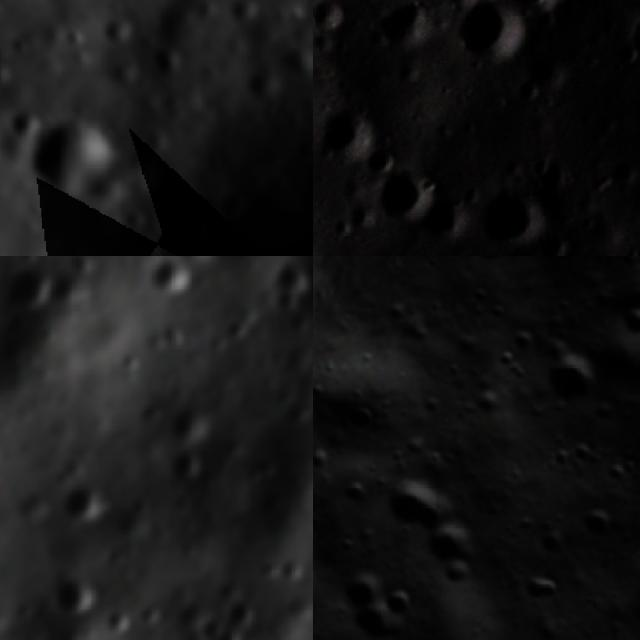crater: (10, 95, 134, 224), (350, 155, 455, 256), (430, 0, 541, 93), (462, 167, 565, 256), (313, 82, 393, 184), (506, 38, 582, 118), (407, 186, 490, 256), (383, 469, 459, 545), (418, 511, 490, 585), (328, 559, 397, 627), (155, 191, 226, 256), (540, 347, 606, 412), (329, 387, 393, 449), (509, 556, 570, 620), (485, 0, 591, 30), (233, 62, 290, 114), (568, 498, 622, 552), (93, 5, 148, 57), (5, 258, 56, 312), (313, 0, 359, 50), (142, 41, 190, 88), (65, 480, 113, 526), (332, 467, 378, 515), (143, 256, 194, 296), (379, 578, 423, 624), (52, 575, 99, 618), (171, 401, 218, 443), (165, 446, 207, 486), (612, 291, 640, 350), (414, 0, 488, 22), (268, 256, 313, 292), (224, 594, 262, 630), (616, 18, 640, 73), (0, 49, 24, 103), (105, 606, 138, 640), (462, 256, 519, 275), (266, 286, 303, 315), (195, 613, 232, 640), (222, 316, 255, 343), (69, 256, 106, 272)
